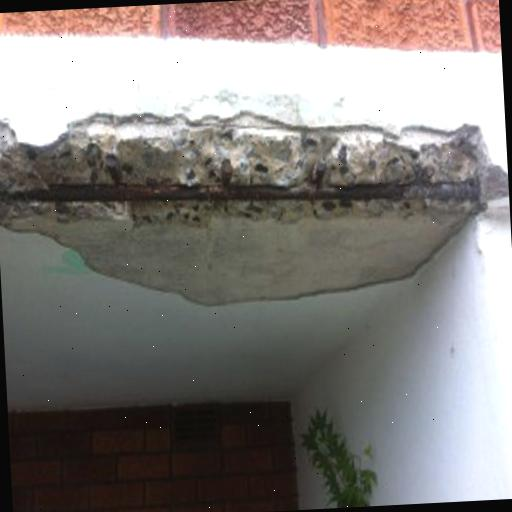spalling: (0, 110, 507, 314)
